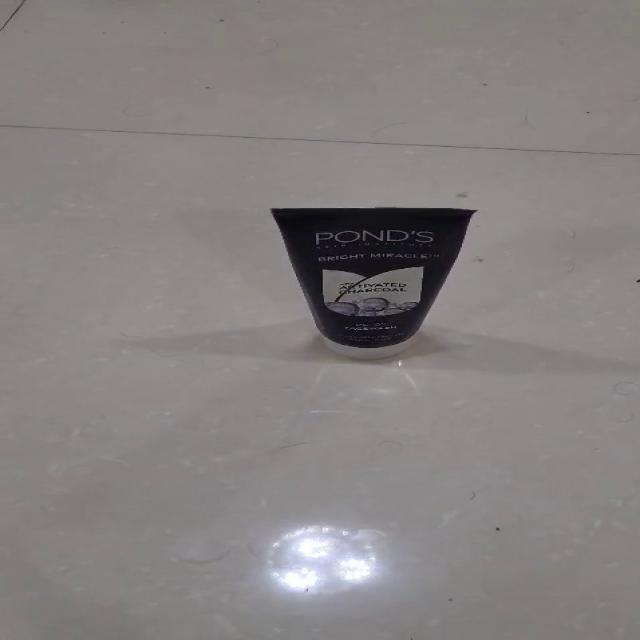plastic: (268, 205, 478, 360)
